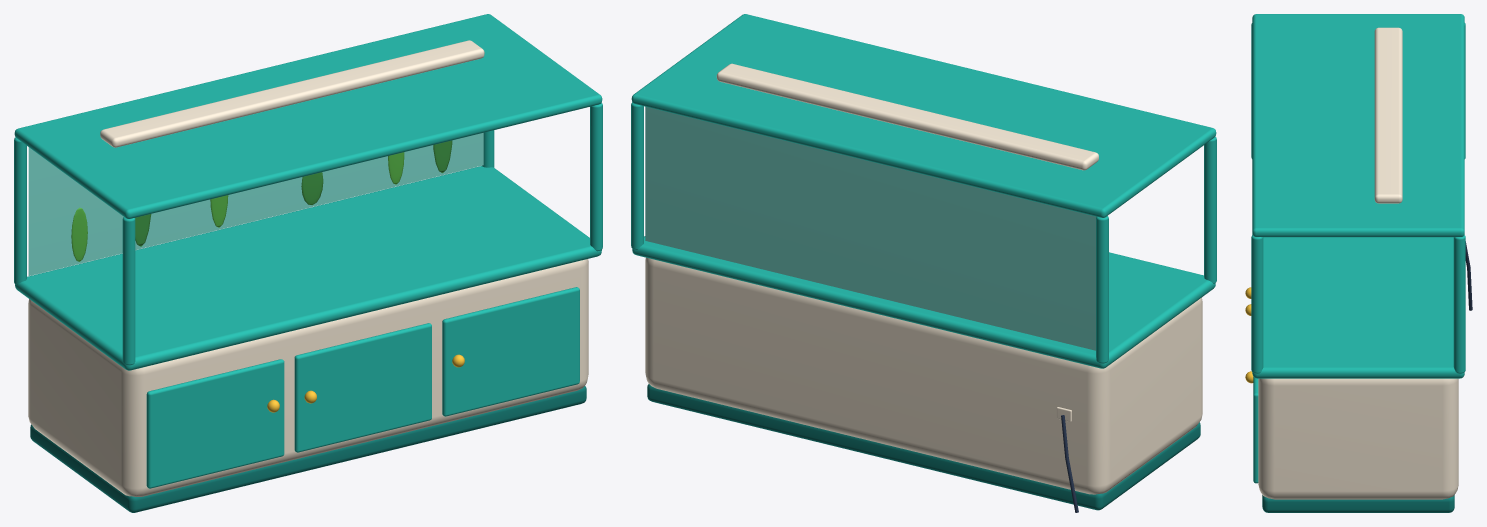
File: TankLarge.fbx
3 renders of one model, left to right at view 1: azimuth 30°, elevation 25°; view 2: azimuth 150°, elevation 25°; view 3: azimuth 270°, elevation 25°, orthographic. The views are drawn at different scales.
Visible parts, largest first — view 1: TankLarge mesh; view 2: TankLarge mesh; view 3: TankLarge mesh.
Boxes of the visible parts, <box> form: TankLarge mesh: <box>14,14,602,512</box>; TankLarge mesh: <box>631,14,1216,512</box>; TankLarge mesh: <box>1245,14,1472,512</box>.
Size of the model in its own units: 2.57 by 1.65 by 1.13.
